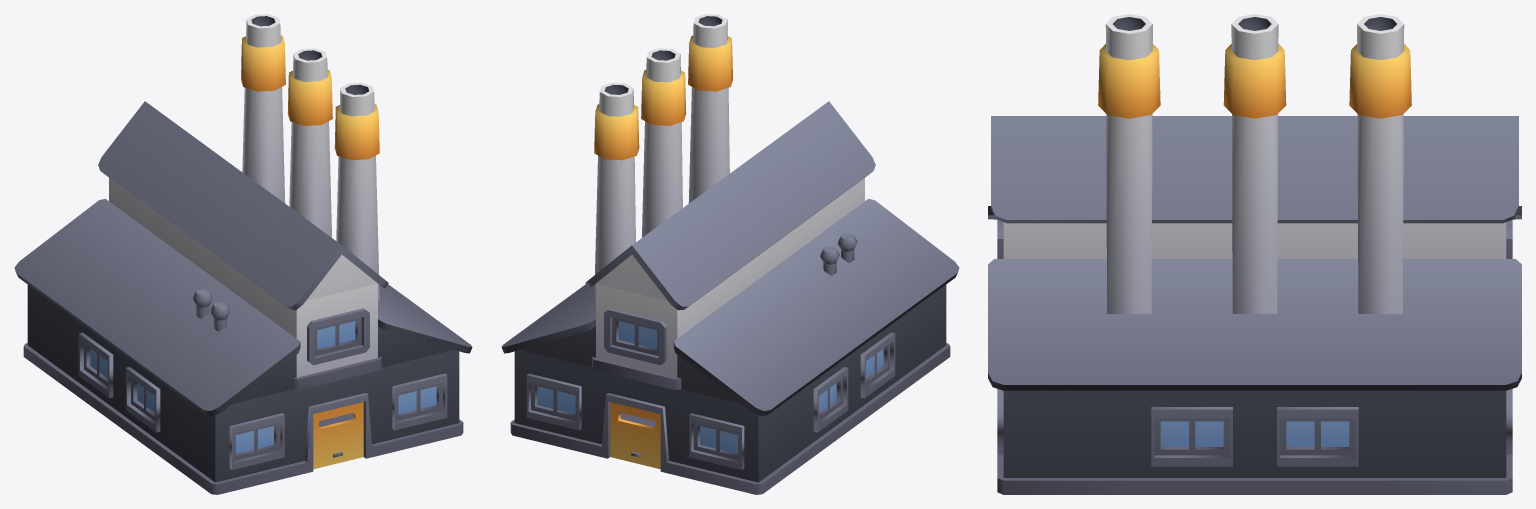
The model's file is building-m.lod.glb.
3 renders of one model, left to right at view 1: azimuth 30°, elevation 25°; view 2: azimuth 150°, elevation 25°; view 3: azimuth 270°, elevation 25°, orthographic. The views are drawn at different scales.
Visible parts, largest first — view 1: building-m; view 2: building-m; view 3: building-m.
Boxes of the visible parts, x1=… form: building-m: x1=14, y1=14, x2=472, y2=494; building-m: x1=501, y1=14, x2=959, y2=494; building-m: x1=988, y1=14, x2=1521, y2=494.
Size of the model in its own units: 1.32 by 1.52 by 1.7.
1 material, 1 textured.
